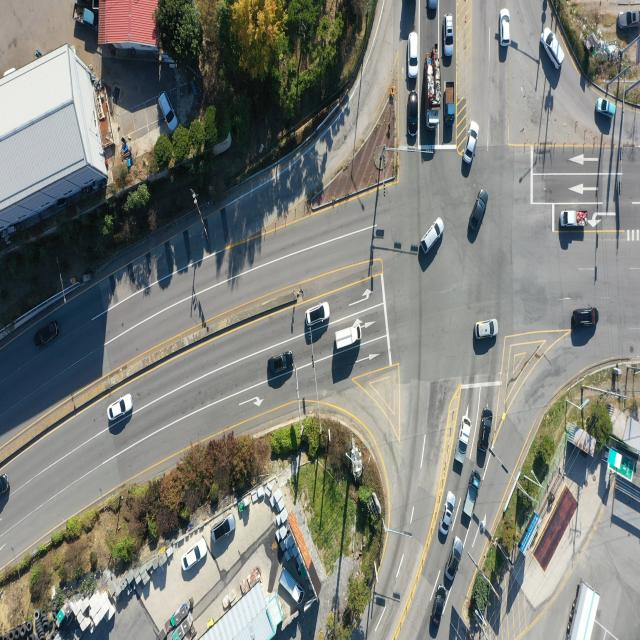car: (541, 23, 566, 69), (446, 538, 464, 582), (184, 541, 209, 572), (421, 218, 442, 253), (471, 190, 488, 232), (462, 122, 478, 166), (157, 91, 176, 128), (35, 322, 59, 350), (111, 396, 135, 424), (442, 493, 457, 535), (304, 301, 328, 326), (431, 587, 446, 627), (268, 352, 294, 375), (213, 514, 235, 541), (480, 410, 494, 452), (572, 308, 598, 329), (409, 31, 420, 78), (408, 92, 419, 137), (476, 319, 499, 339), (617, 9, 640, 29), (471, 317, 494, 336), (596, 98, 616, 119), (445, 16, 455, 56), (500, 10, 510, 48), (0, 476, 9, 499), (427, 0, 439, 15)
medium_truck: (564, 583, 600, 640), (425, 56, 440, 130)
small_truck: (277, 569, 306, 607), (462, 470, 481, 520), (334, 325, 362, 353), (454, 416, 470, 462), (446, 82, 458, 127), (560, 210, 588, 229), (72, 3, 94, 26)
